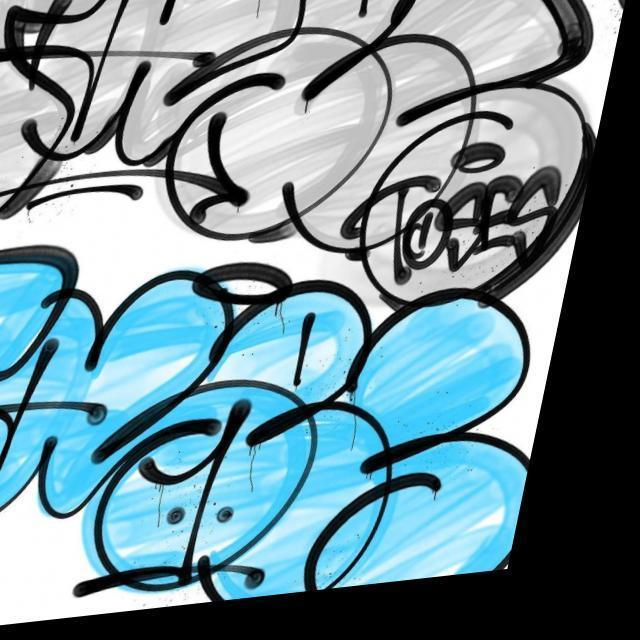nonspitting: (0, 242, 530, 598), (0, 0, 593, 305)
